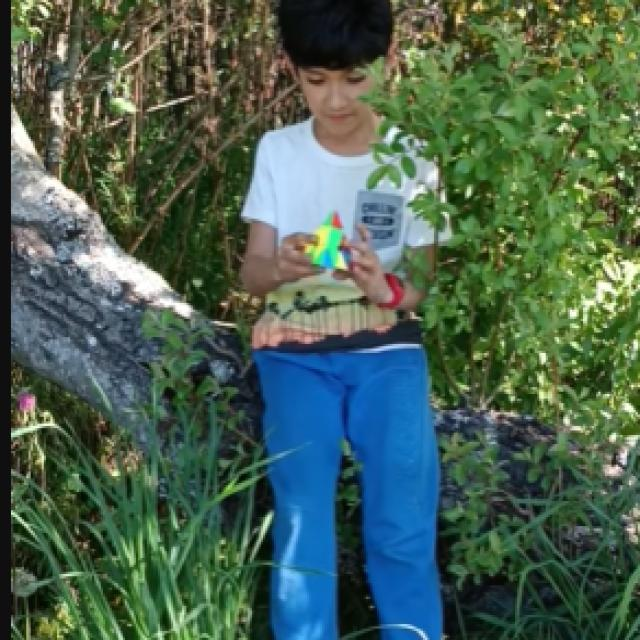Pyraminx: (305, 214, 348, 266)
